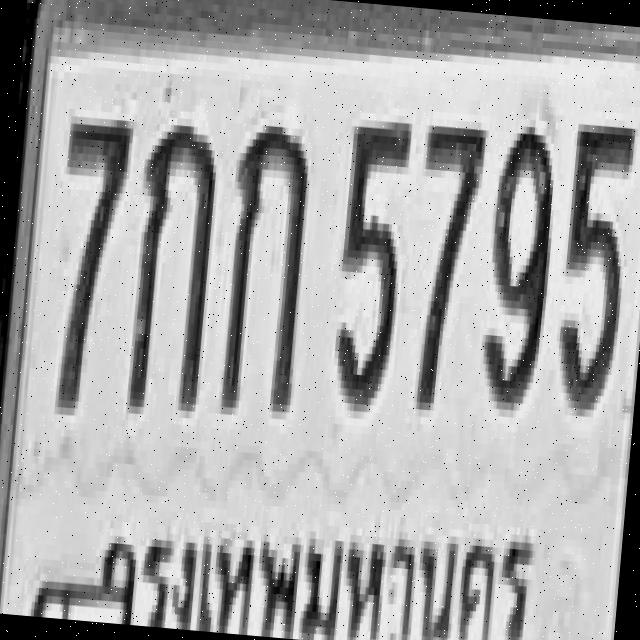10GorGai: (123, 116, 220, 412), (216, 116, 313, 412)
5: (327, 114, 412, 410), (552, 116, 637, 411)
7: (43, 108, 132, 410), (403, 118, 485, 412)
9: (478, 117, 560, 404)
Bangkok: (90, 476, 546, 640)
